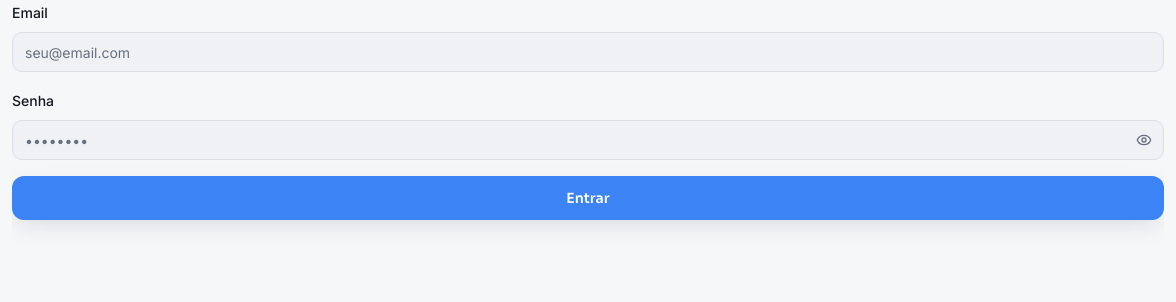
Scenario: LoginForm › shows error for invalid email
Type "invalid-email" into the field labelled "Email" at point(588, 52), box 12,32 -> 1164,72
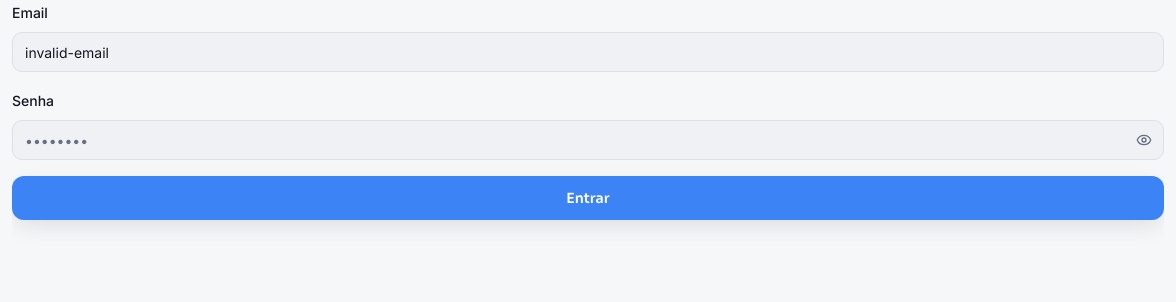
Click the button "Entrar" at point(588, 198), box 12,176 -> 1164,220
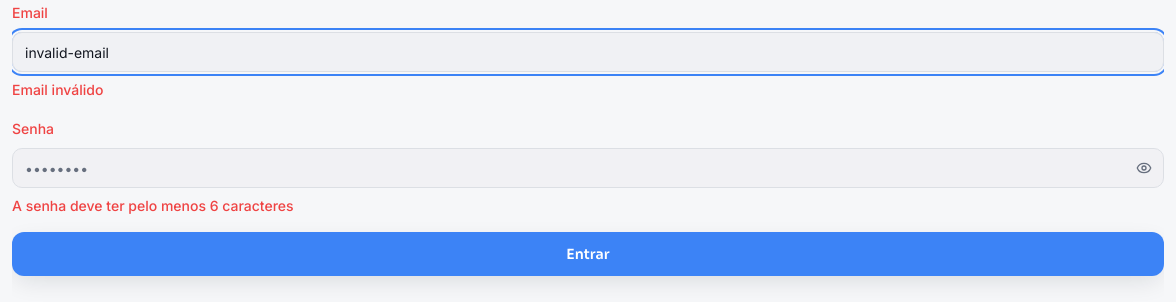
Expected: the text "Email inválido" is shown, 12,81 -> 103,98
